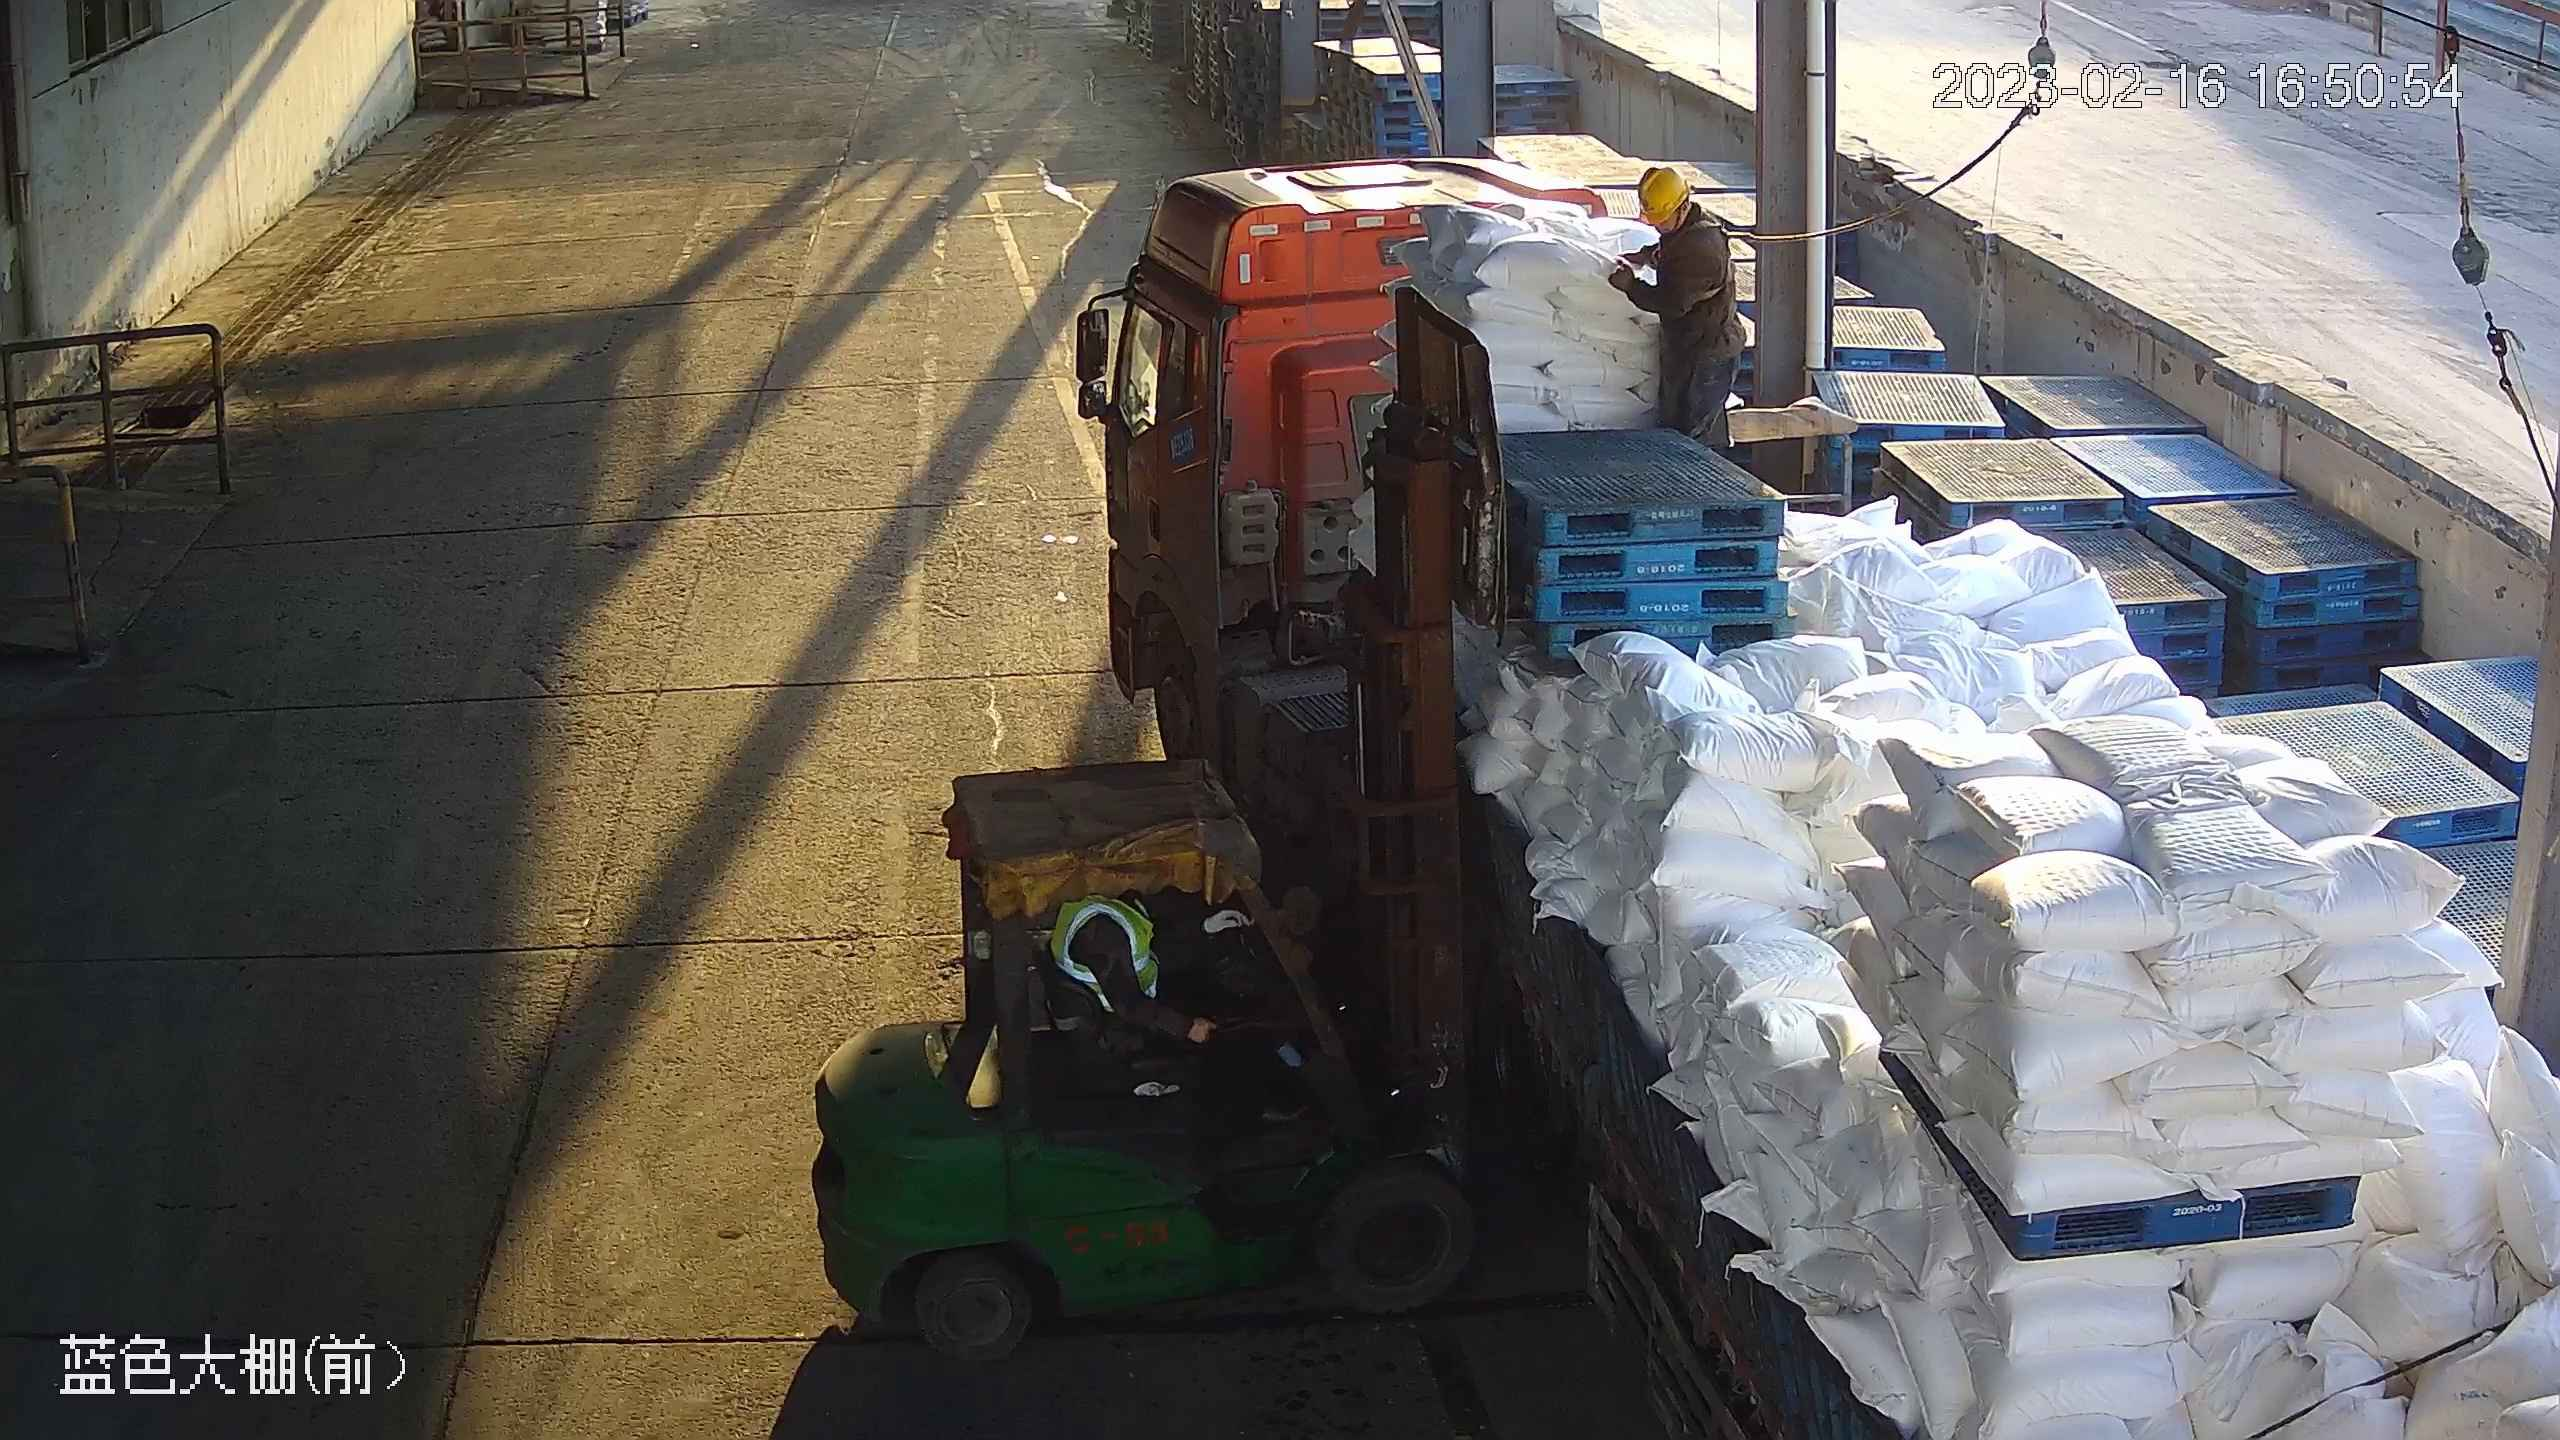belt: (1685, 207, 1746, 299)
head: (1637, 168, 1729, 266)
helmet: (1637, 168, 1688, 225)
people: (1609, 168, 1747, 449)
truck: (1076, 157, 2560, 1440)
